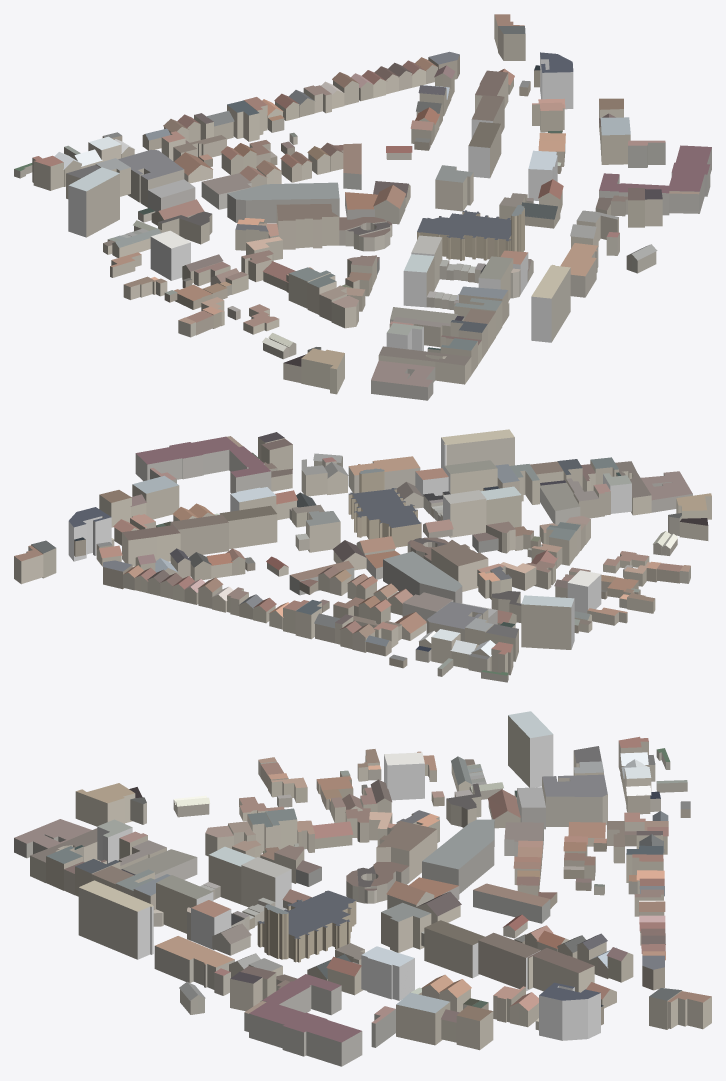
The picture shows the model from 3 angles, top to bottom: view 1: azimuth 30°, elevation 25°; view 2: azimuth 150°, elevation 25°; view 3: azimuth 270°, elevation 25°; orthographic projection. The views are drawn at different scales.
Parts seen in each view (by area): view 1: tuile; view 2: tuile; view 3: tuile.
Boxes of the visible parts, <box> form: tuile: <box>14,14,711,400</box>; tuile: <box>14,429,711,682</box>; tuile: <box>14,711,711,1066</box>.
Size of the model in its own units: 275 by 33.02 by 267.
